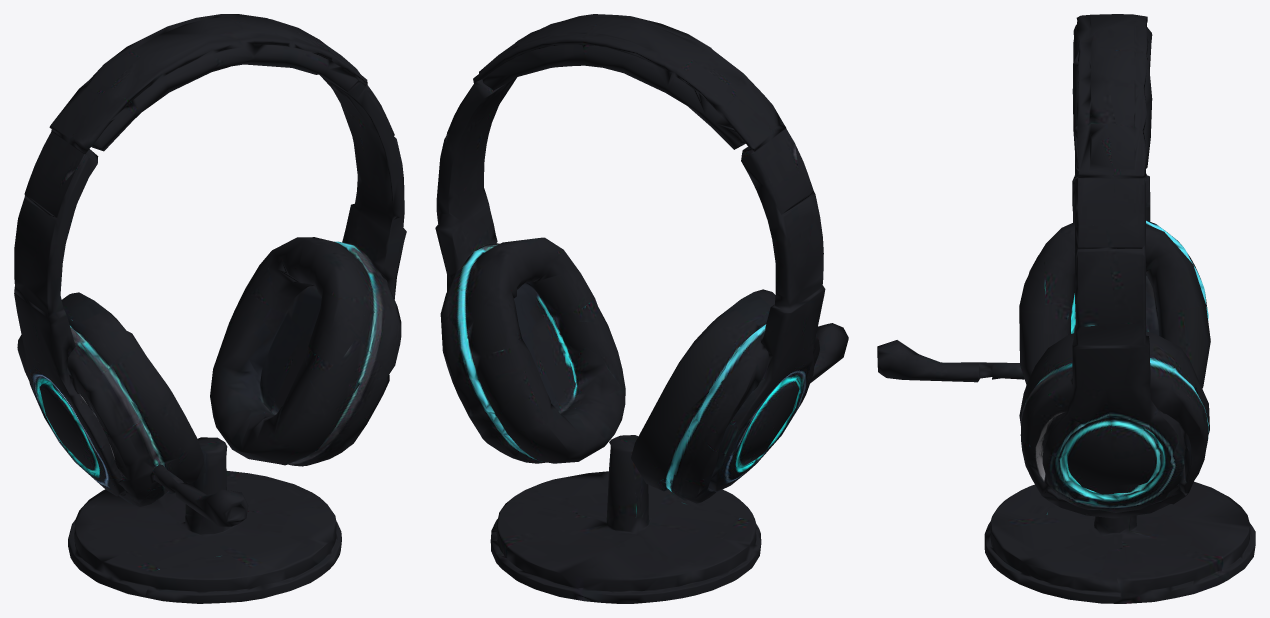
Rendered from co_headset_p.glb.
3 views of the same model, side by side, from view 1: azimuth 30°, elevation 25°; view 2: azimuth 150°, elevation 25°; view 3: azimuth 270°, elevation 25° (orthographic).
Bounding box in the file's own units: 1.37 × 1.9 × 1.26.
1 material, 1 textured.
